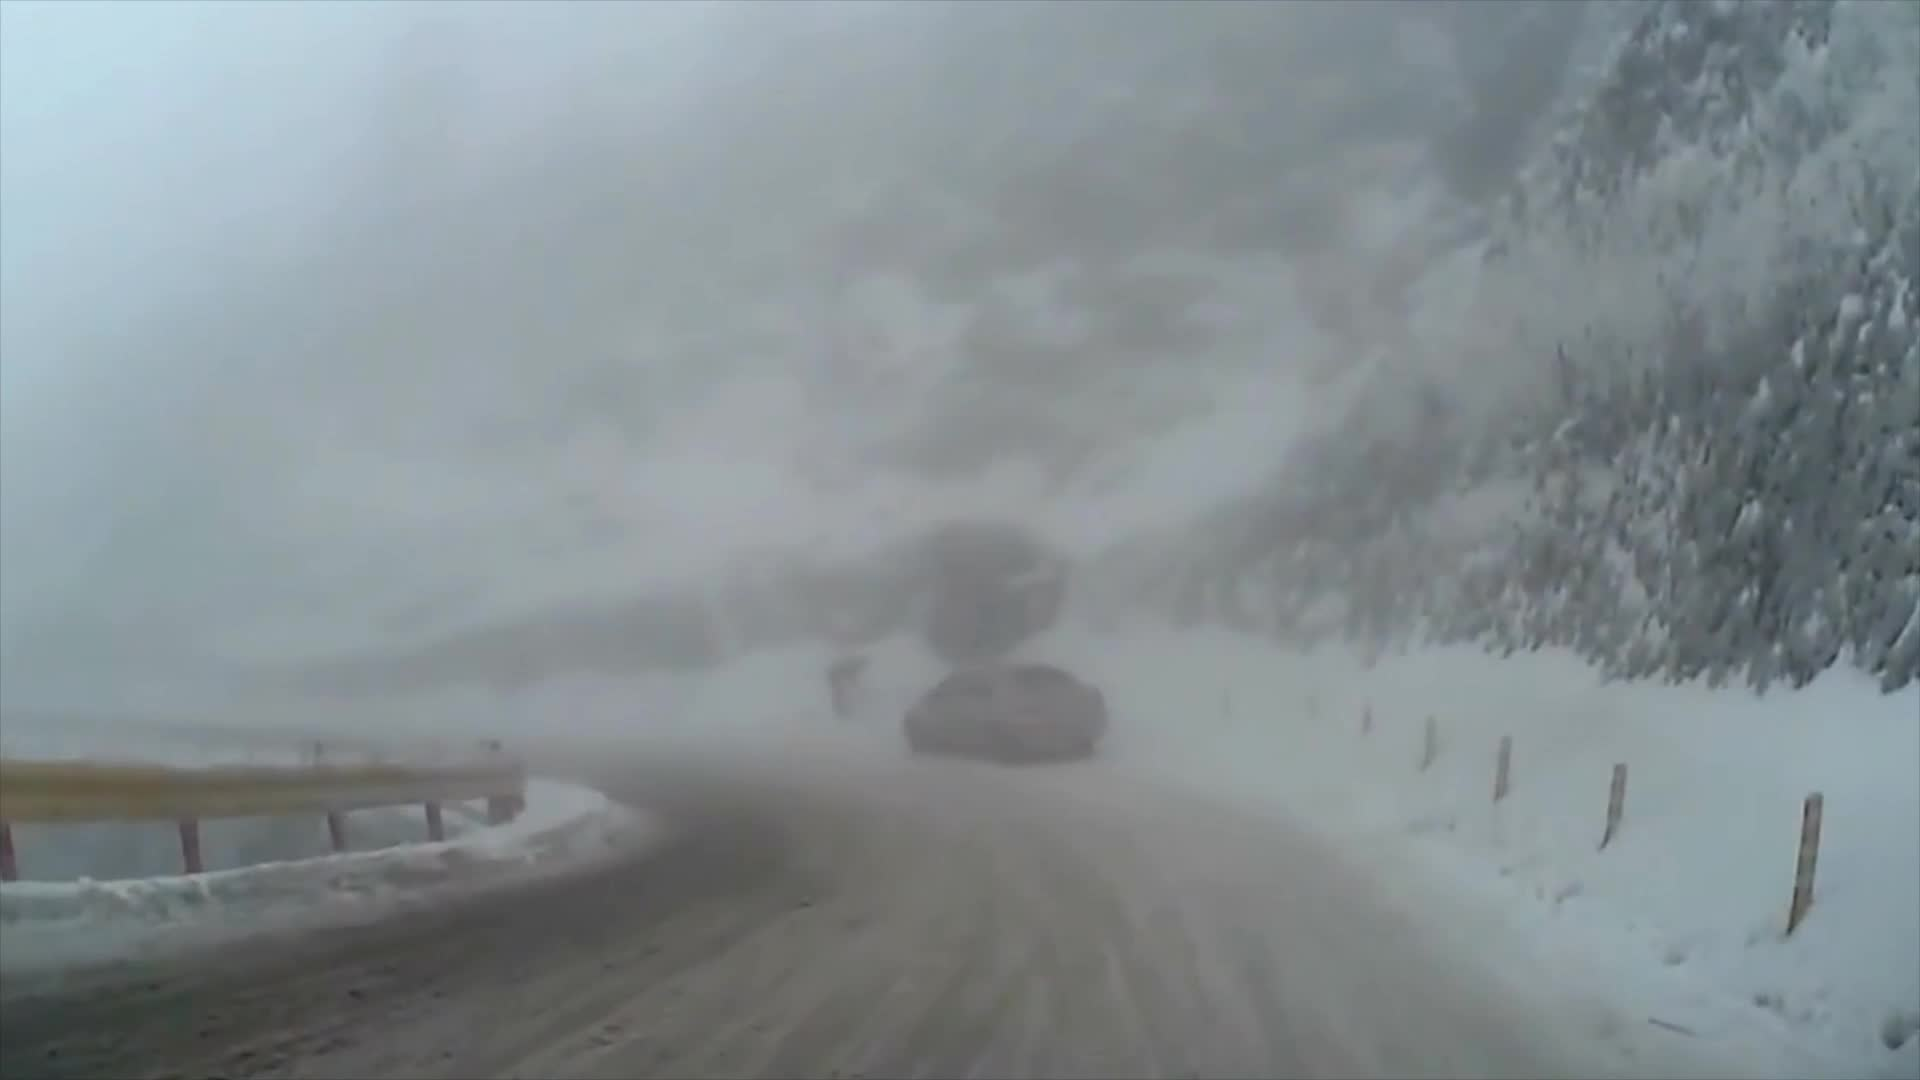pedestrian: (825, 655, 871, 722)
vehicle: (901, 663, 1104, 763)
